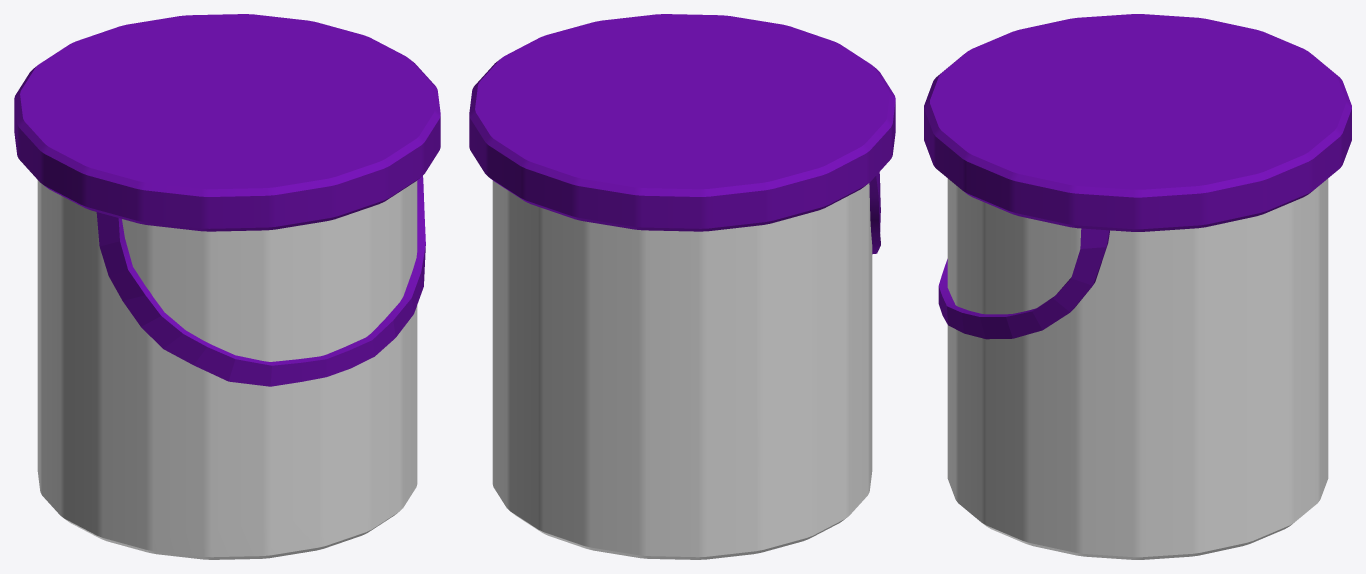
Rendered from Ürün47.fbx.
3 renders of one model, left to right at view 1: azimuth 30°, elevation 25°; view 2: azimuth 150°, elevation 25°; view 3: azimuth 270°, elevation 25°, orthographic.
Parts seen in each view (by area): view 1: pCylinder27; view 2: pCylinder27; view 3: pCylinder27.
Part boxes in pixels (bbox=[...]): pCylinder27: bbox=[14, 14, 440, 559]; pCylinder27: bbox=[469, 14, 895, 559]; pCylinder27: bbox=[924, 14, 1351, 559].
Size of the model in its own units: 20.06 by 19.68 by 20.06.
